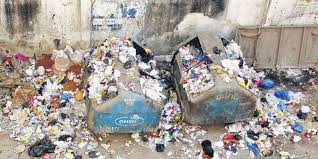garbage: (17, 57, 92, 159), (88, 44, 166, 102), (178, 48, 263, 90), (251, 90, 303, 139)
